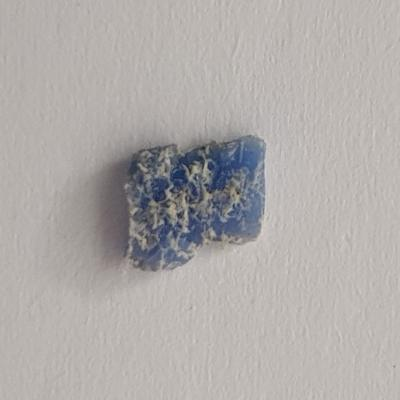plastic: (119, 129, 271, 280)
